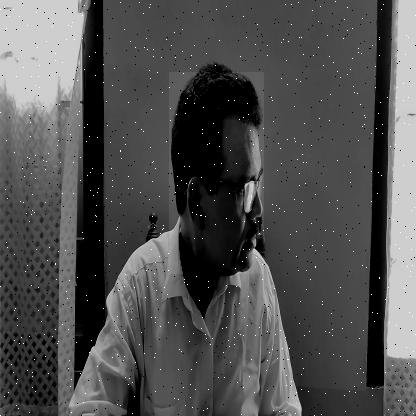Distracted: (169, 72, 264, 274)
